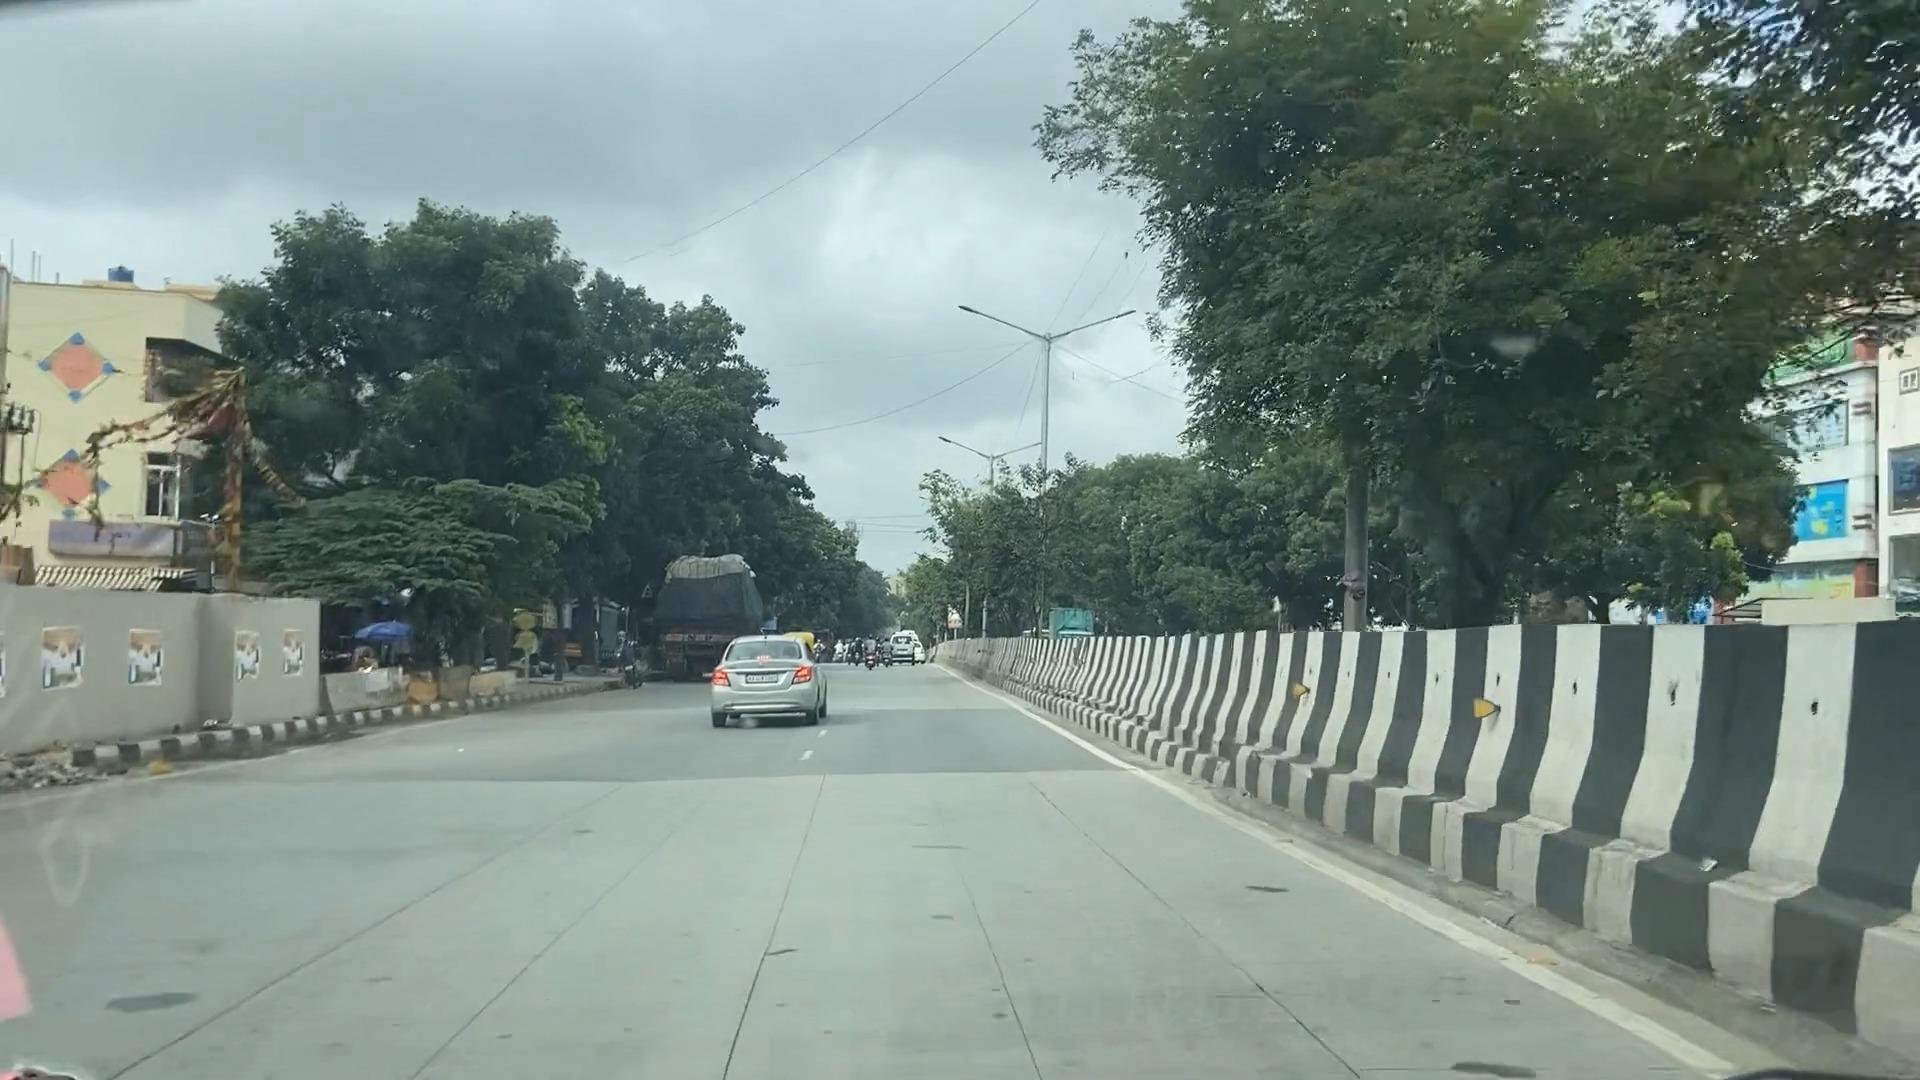LMV: (703, 613, 825, 723)
